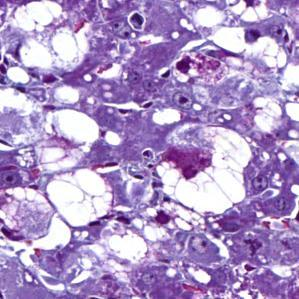ballooning: (154, 121, 254, 217), (9, 3, 91, 76), (43, 167, 115, 231)
